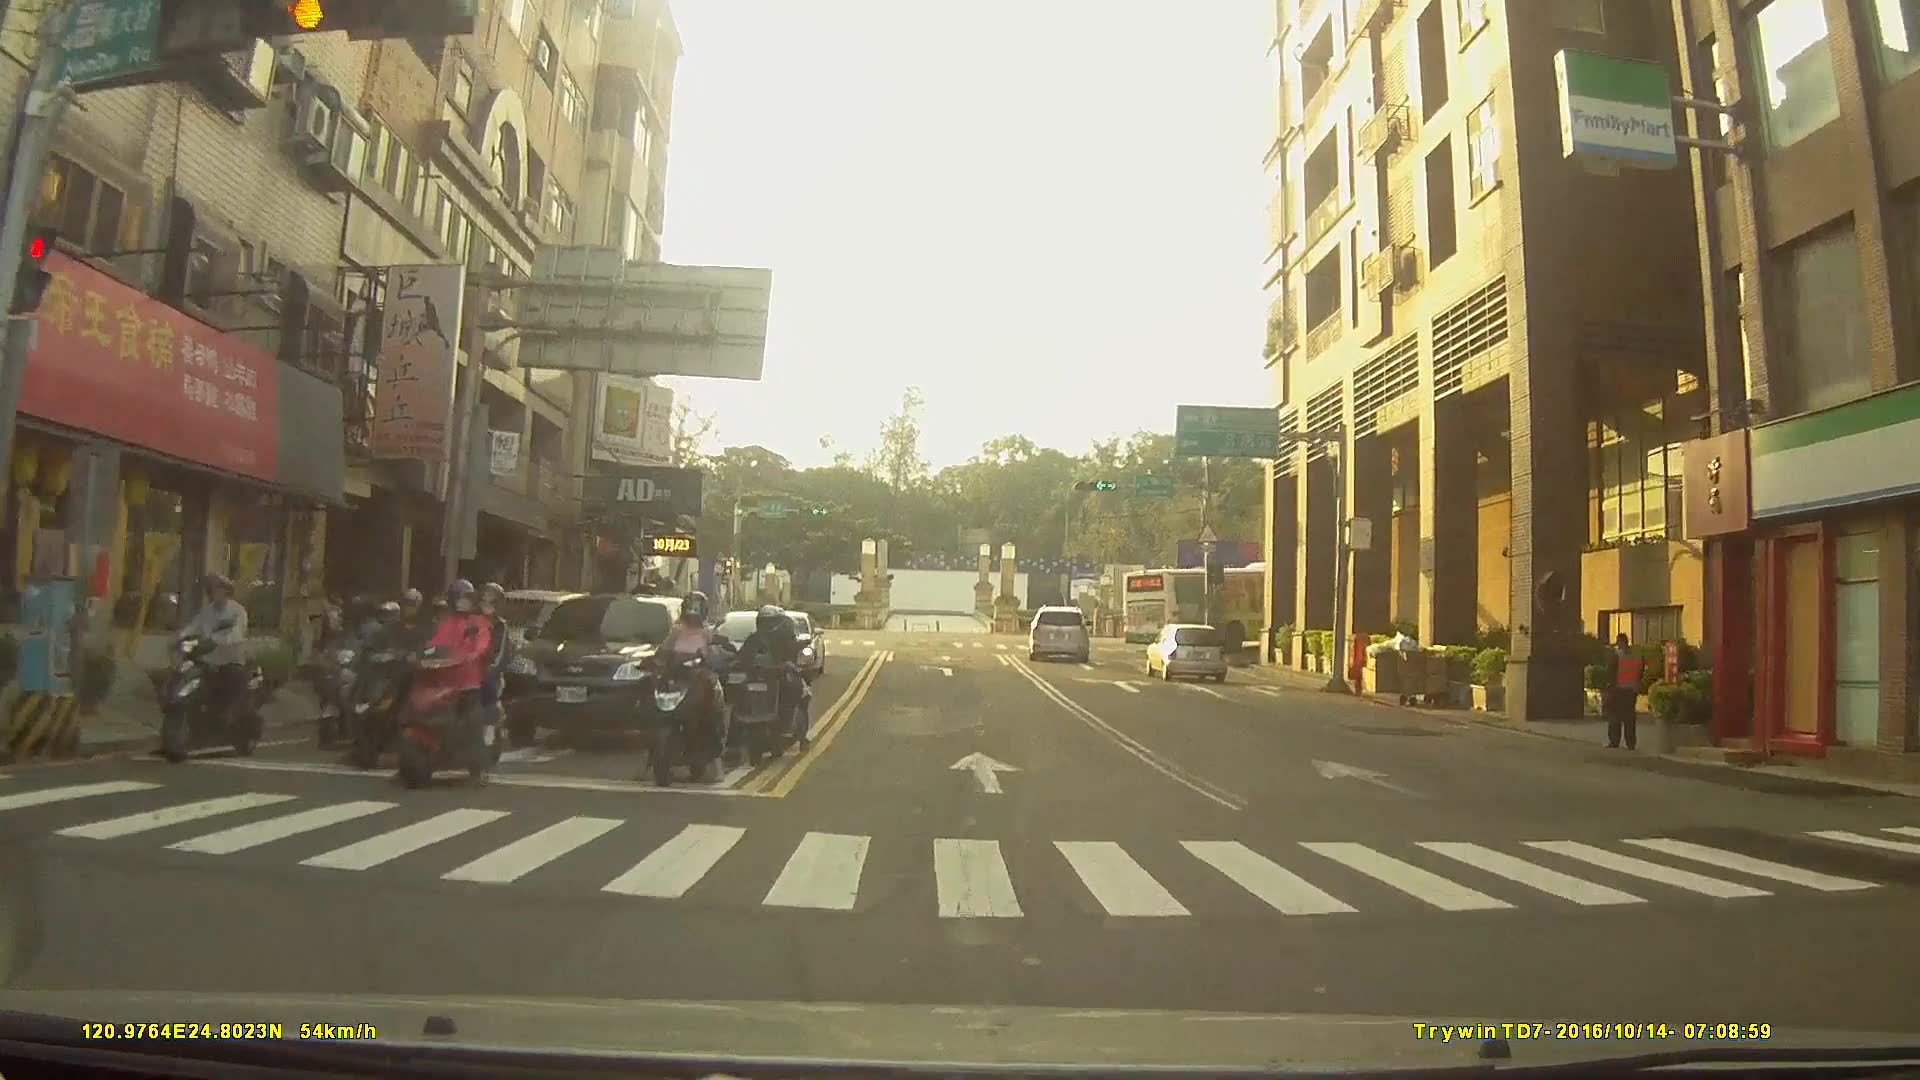pedestrian: (1596, 631, 1656, 756)
rider: (395, 579, 515, 788), (160, 570, 265, 764), (342, 584, 450, 769), (643, 593, 744, 786), (726, 607, 810, 769)
vehicle: (500, 591, 716, 747), (1120, 559, 1334, 653), (1142, 621, 1226, 680), (1026, 602, 1089, 659)
